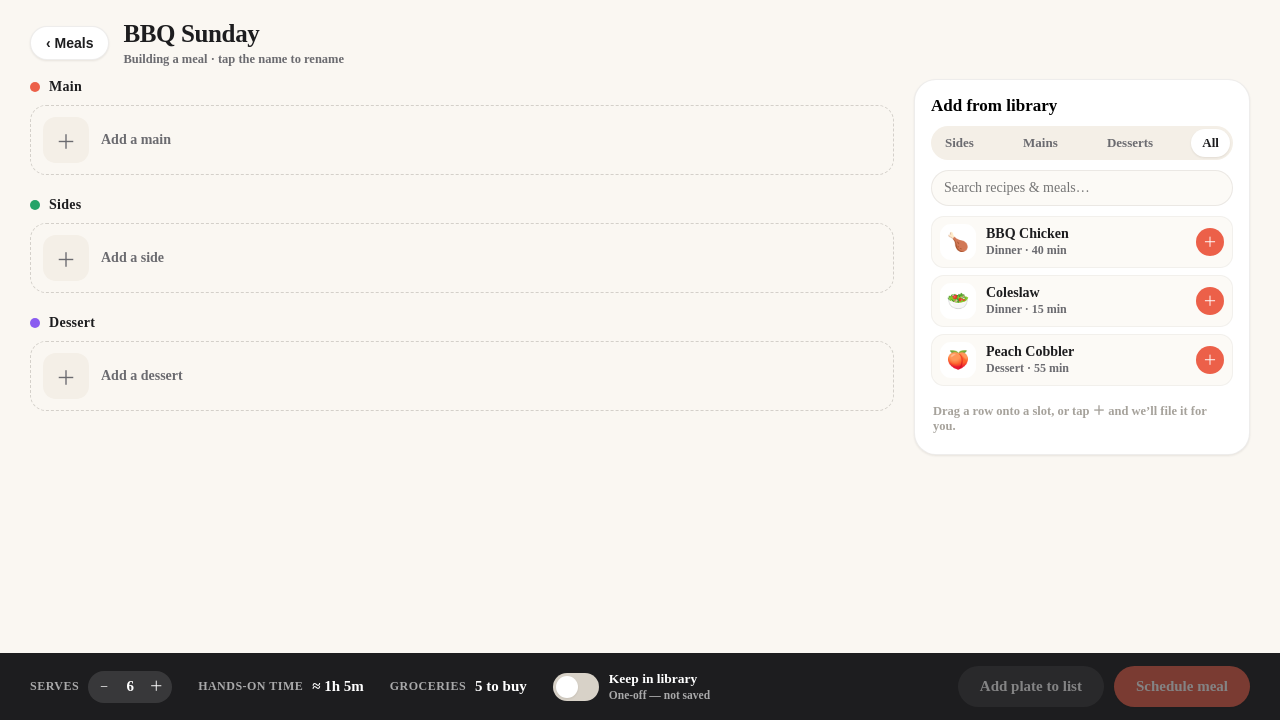
Scenario: MealBuilder — add from library › filters the library by the segment chooser
This screenshot has width=1280, height=720.
expect the text "Peach Cobbler" is shown: met, box [986, 344, 1074, 359]
What coordinates should you click on to do the following:
click the button "Desserts"
I would click on:
 (1130, 143)
Its box is [1096, 129, 1164, 157].
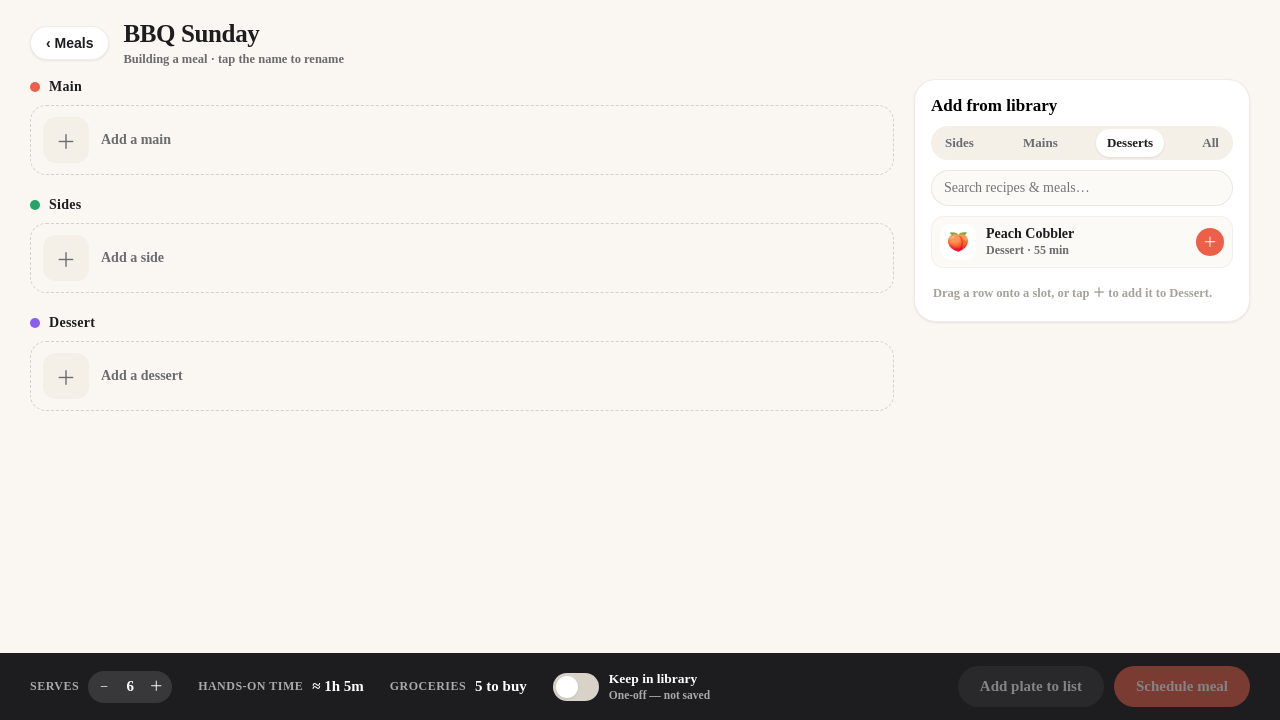
expect the text "Peach Cobbler" is shown: met, box [986, 226, 1074, 241]
expect the text "BBQ Chicken" is gone: met
